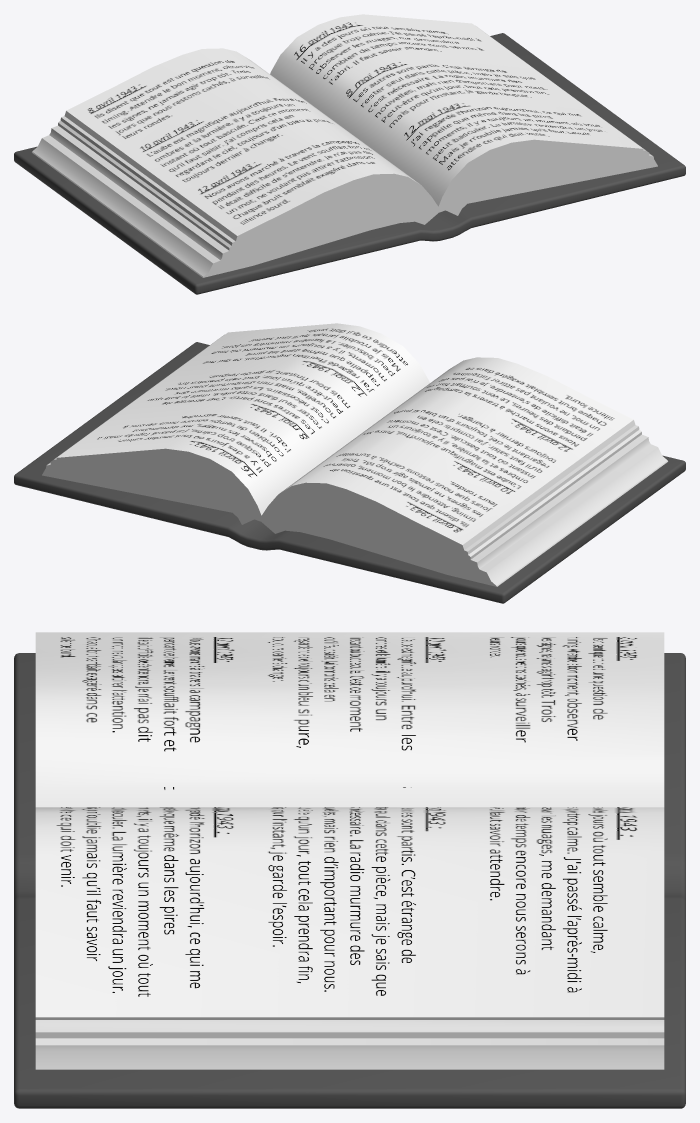
Rendered from clue_wire_blue.fbx.
3 views of the same model, one above another, from view 1: azimuth 30°, elevation 25°; view 2: azimuth 150°, elevation 25°; view 3: azimuth 270°, elevation 25° (orthographic). The views are drawn at different scales.
Visible parts, largest first — view 1: Vert; view 2: Vert; view 3: Vert.
Boxes of the visible parts, left/top/right/bottom form: Vert: left=14, top=14, right=685, bottom=294; Vert: left=14, top=323, right=685, bottom=603; Vert: left=14, top=632, right=685, bottom=1108.
Size of the model in its own units: 480 by 72.96 by 310.
